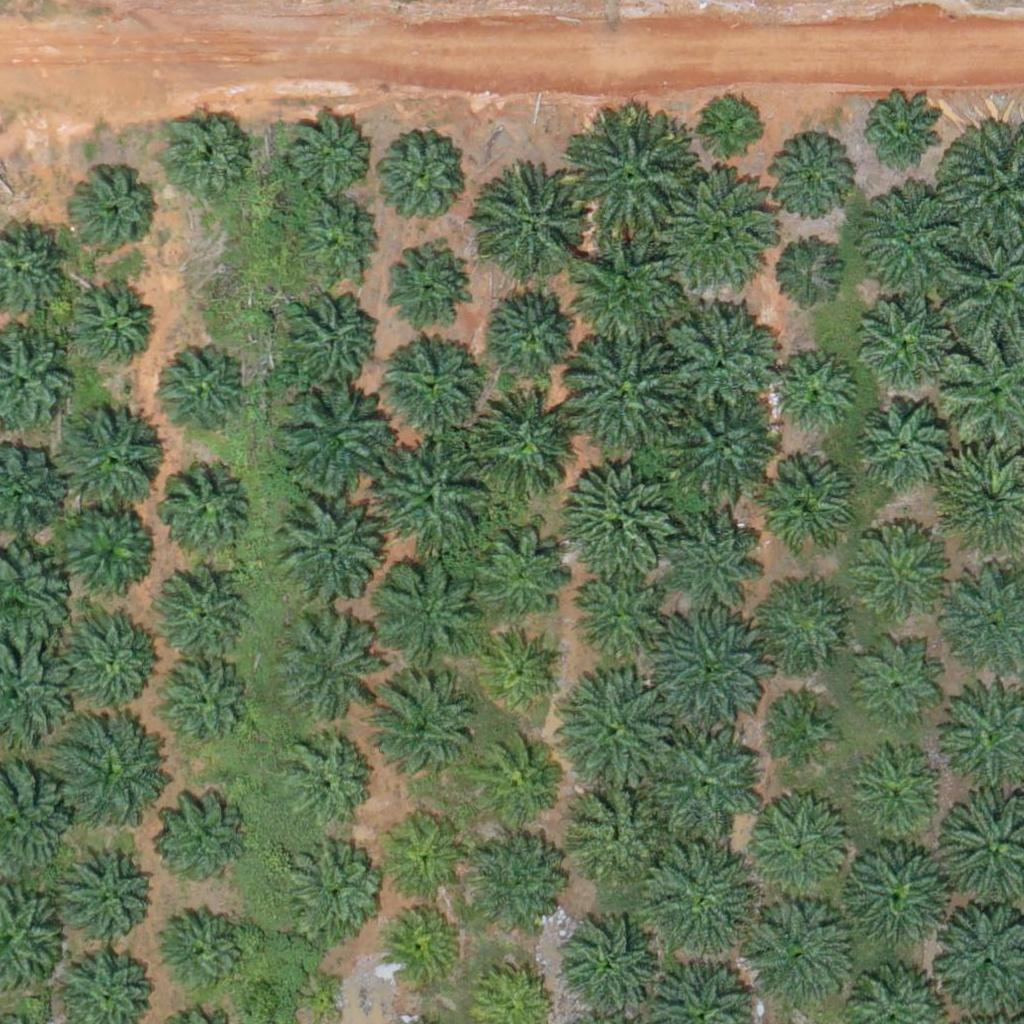Kelapa_Sawit: (569, 120, 694, 246), (840, 840, 953, 954), (669, 175, 782, 289), (465, 388, 578, 502), (858, 180, 971, 293), (745, 795, 858, 908), (647, 844, 760, 957), (651, 610, 764, 723), (572, 238, 685, 351), (563, 339, 676, 452), (560, 459, 673, 572), (458, 519, 571, 632), (57, 713, 170, 826), (568, 677, 680, 791), (370, 553, 482, 667), (367, 669, 479, 783), (276, 385, 388, 499), (742, 901, 854, 1015), (650, 728, 762, 841), (669, 390, 781, 503), (664, 303, 776, 416), (375, 444, 487, 557), (51, 401, 163, 514), (667, 497, 767, 598), (487, 281, 587, 382), (371, 125, 471, 226), (271, 617, 371, 718), (147, 345, 247, 446), (152, 566, 252, 667), (153, 655, 253, 756), (62, 607, 162, 708), (54, 499, 154, 600), (756, 459, 856, 559), (571, 780, 671, 880), (482, 179, 582, 279), (384, 335, 484, 435), (280, 837, 380, 937), (275, 504, 375, 604), (280, 288, 380, 388), (156, 460, 256, 560), (766, 137, 854, 226), (470, 840, 558, 929), (477, 627, 565, 715), (853, 749, 941, 837), (857, 295, 945, 383), (767, 349, 855, 437), (566, 573, 654, 661), (469, 739, 557, 827), (378, 241, 466, 329), (280, 735, 368, 823), (160, 110, 248, 198), (64, 849, 152, 937), (63, 281, 151, 369), (380, 900, 468, 988), (161, 901, 248, 990), (858, 91, 945, 179), (860, 525, 947, 613), (859, 399, 946, 487), (761, 580, 848, 668), (382, 815, 469, 903), (298, 196, 385, 284), (286, 113, 373, 201), (157, 794, 244, 882), (73, 170, 160, 258), (567, 922, 654, 1010), (768, 242, 843, 318), (863, 651, 938, 727), (702, 94, 765, 157), (770, 699, 833, 762)
